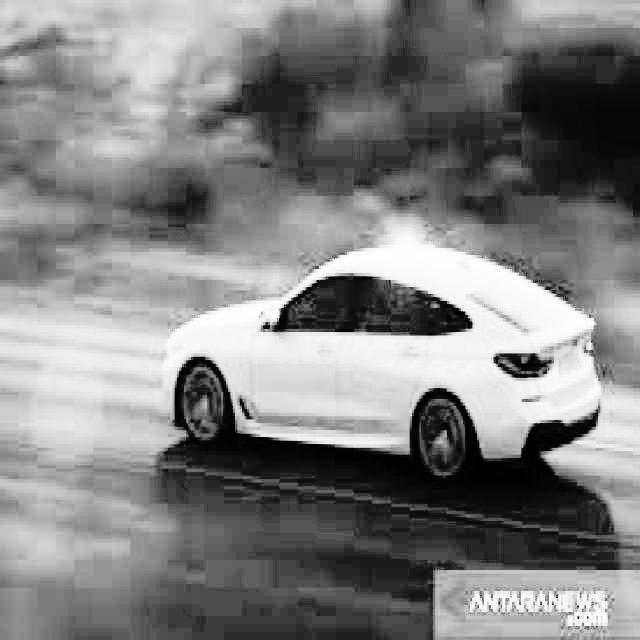Car: (164, 219, 603, 502)
